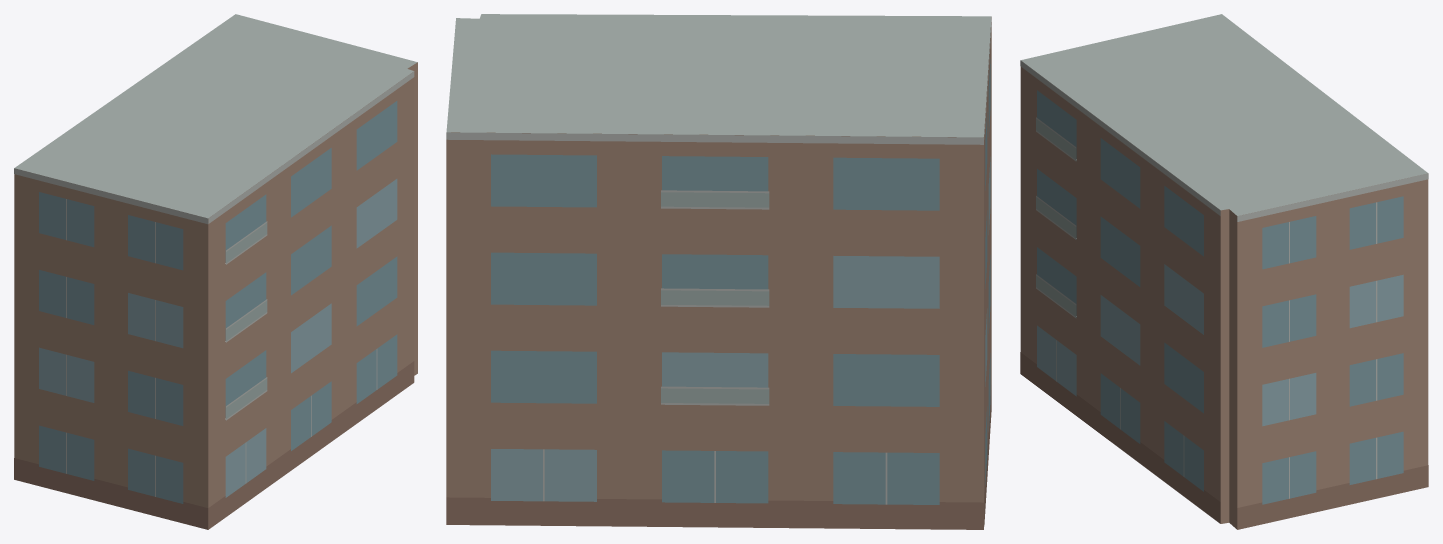
File: survey-upis-32953888.glb
3 renders of one model, left to right at view 1: azimuth 30°, elevation 25°; view 2: azimuth 150°, elevation 25°; view 3: azimuth 270°, elevation 25°, orthographic. The views are drawn at different scales.
Parts seen in each view (by area): view 1: survey-upis-32953888.tmp; view 2: survey-upis-32953888.tmp; view 3: survey-upis-32953888.tmp.
Part boxes in pixels (bbox=[...]): survey-upis-32953888.tmp: bbox=[14, 14, 417, 529]; survey-upis-32953888.tmp: bbox=[446, 14, 991, 529]; survey-upis-32953888.tmp: bbox=[1020, 14, 1428, 529].
Bounding box in the file's own units: 17.7 × 12.8 × 15.1.
